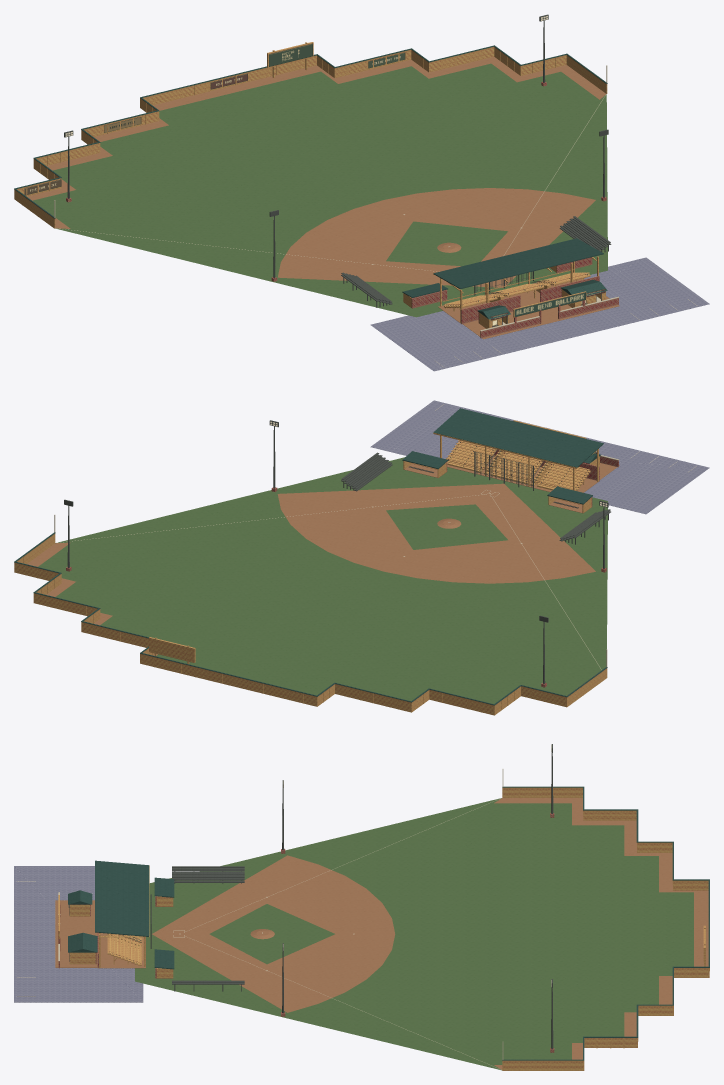
Rendered from alder-bend-1960.glb.
The picture shows the model from 3 angles, top to bottom: view 1: azimuth 30°, elevation 25°; view 2: azimuth 150°, elevation 25°; view 3: azimuth 270°, elevation 25°; orthographic projection.
Visible parts, largest first — view 1: diamond, lot, outfield_fence, grandstand, park_buildings, line_bleachers, light_towers, sign_name, sign_scoreboard; view 2: diamond, outfield_fence, grandstand, lot, park_buildings, line_bleachers, light_towers; view 3: diamond, lot, outfield_fence, grandstand, park_buildings, line_bleachers, light_towers.
Boxes of the visible parts, bbox=[...] form: diamond: bbox=[27, 57, 607, 317]; lot: bbox=[370, 257, 709, 371]; outfield_fence: bbox=[14, 42, 607, 228]; grandstand: bbox=[433, 238, 603, 324]; park_buildings: bbox=[402, 257, 619, 338]; line_bleachers: bbox=[341, 216, 611, 307]; light_towers: bbox=[64, 14, 608, 281]; sign_name: bbox=[514, 292, 585, 316]; sign_scoreboard: bbox=[269, 43, 312, 66]; diamond: bbox=[27, 451, 607, 703]; outfield_fence: bbox=[14, 514, 607, 715]; grandstand: bbox=[433, 408, 603, 492]; lot: bbox=[370, 400, 709, 514]; park_buildings: bbox=[402, 420, 618, 513]; line_bleachers: bbox=[341, 452, 610, 544]; light_towers: bbox=[64, 420, 608, 687]; diamond: bbox=[135, 798, 708, 1070]; lot: bbox=[14, 866, 143, 1002]; outfield_fence: bbox=[502, 769, 709, 1070]; grandstand: bbox=[95, 860, 149, 968]; park_buildings: bbox=[58, 877, 174, 978]; line_bleachers: bbox=[172, 866, 244, 991]; light_towers: bbox=[281, 744, 554, 1052].
Size of what is drawn, in the model's own units: 144 by 17.37 by 155.
11 materials, 11 textured.
